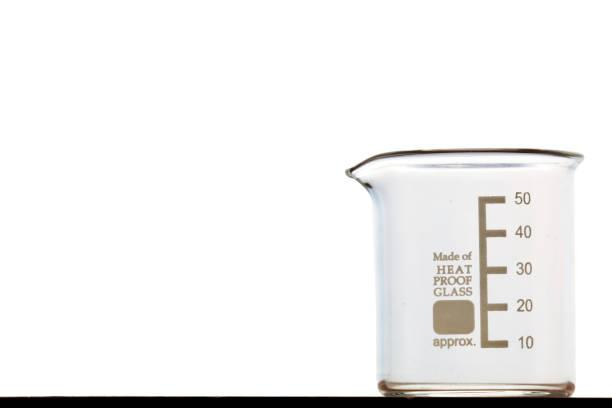Beaker: (342, 143, 586, 394)
